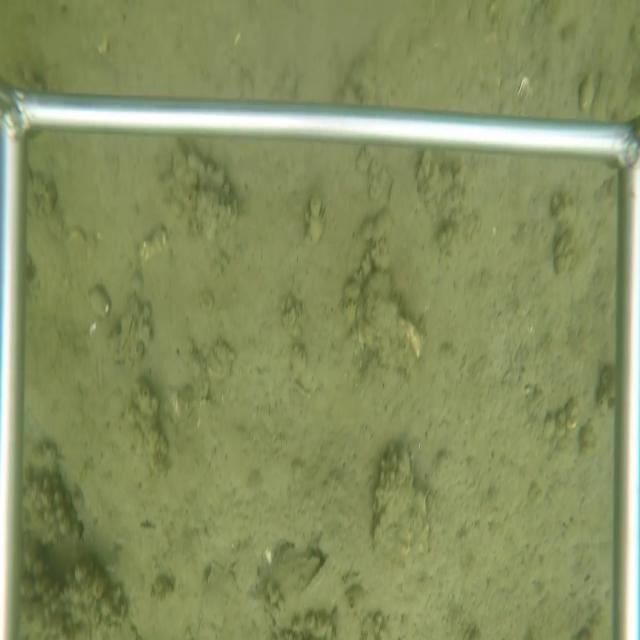Oyster-Closed: (119, 307, 137, 363)
Oyster-Indeterminate: (368, 437, 428, 572), (350, 264, 400, 356)
Oyster-Open: (298, 551, 335, 600)
